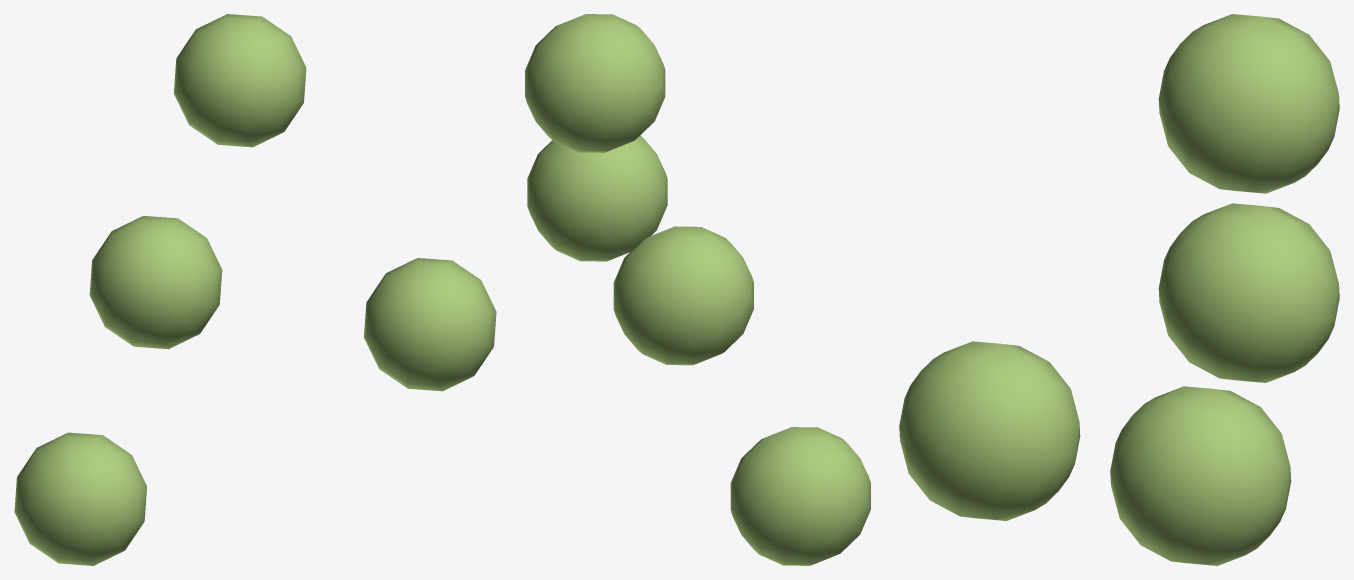
File: supraclavicular-nodes-r.glb
The picture shows the model from 3 angles, left to right: view 1: azimuth 30°, elevation 25°; view 2: azimuth 150°, elevation 25°; view 3: azimuth 270°, elevation 25°; orthographic projection. The views are drawn at different scales.
Parts seen in each view (by area): view 1: Supraclavicular nodes.r; view 2: Supraclavicular nodes.r; view 3: Supraclavicular nodes.r.
Boxes of the visible parts, left/top/right/bottom form: Supraclavicular nodes.r: left=14, top=14, right=496, bottom=565; Supraclavicular nodes.r: left=525, top=14, right=870, bottom=565; Supraclavicular nodes.r: left=899, top=14, right=1339, bottom=565.
Size of the model in its own units: 0.00855 by 0.0102 by 0.00624.
